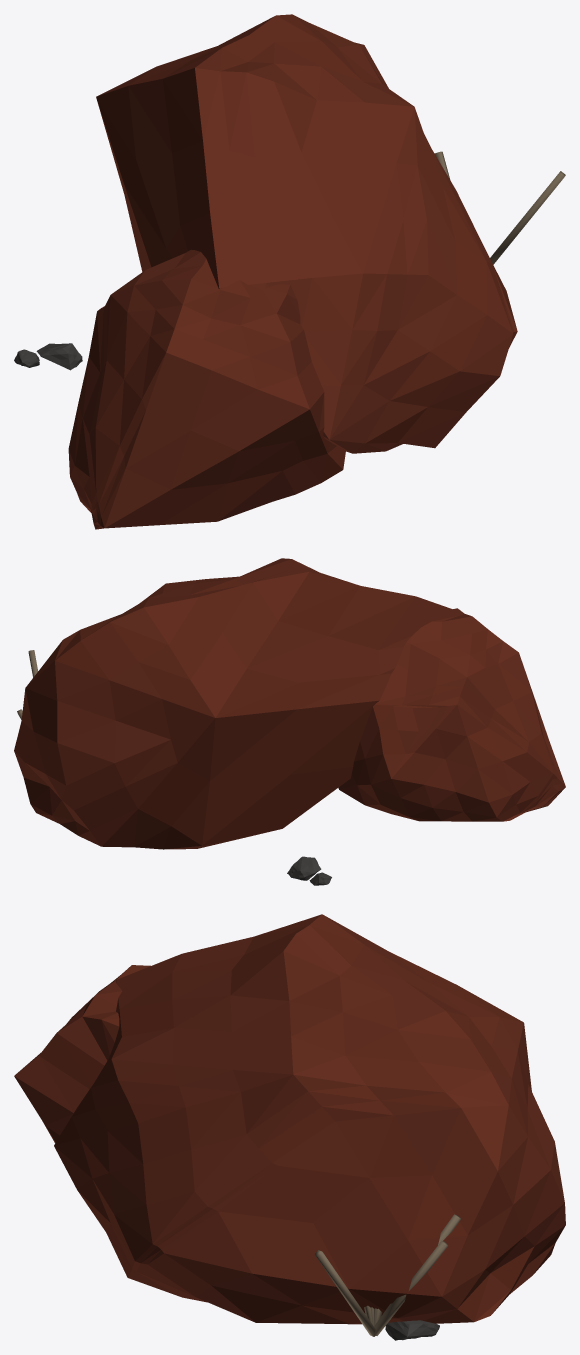
File: cover_rock_12.glb
3 views of the same model, one above another, from view 1: azimuth 30°, elevation 25°; view 2: azimuth 150°, elevation 25°; view 3: azimuth 270°, elevation 25° (orthographic). The views are drawn at different scales.
Visible parts, largest first — view 1: rock_0, rock_1, weed_1, grit_3; view 2: rock_0, rock_1, grit_3; view 3: rock_0, rock_1, grit_2, weed_3, weed_1.
Boxes of the visible parts, bbox=[...] form: rock_0: bbox=[96, 14, 517, 453]; rock_1: bbox=[68, 249, 345, 529]; weed_1: bbox=[490, 171, 565, 264]; grit_3: bbox=[36, 343, 82, 370]; rock_0: bbox=[14, 558, 464, 849]; rock_1: bbox=[338, 608, 565, 821]; grit_3: bbox=[287, 856, 321, 880]; rock_0: bbox=[54, 914, 565, 1324]; rock_1: bbox=[14, 965, 150, 1142]; grit_2: bbox=[385, 1320, 439, 1340]; weed_3: bbox=[374, 1241, 448, 1335]; weed_1: bbox=[315, 1250, 375, 1336].
Size of the model in its own units: 1.7 by 0.9486 by 1.54.
